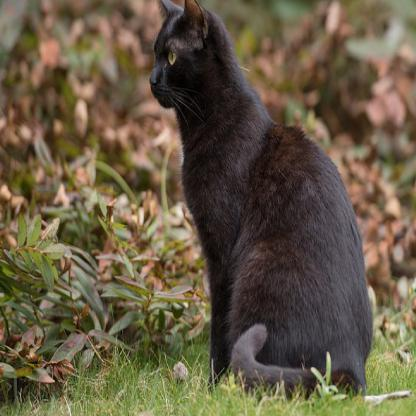cat: (150, 0, 375, 397)
